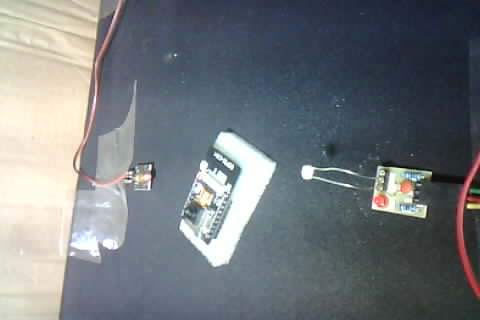esp32: (178, 134, 262, 258)
